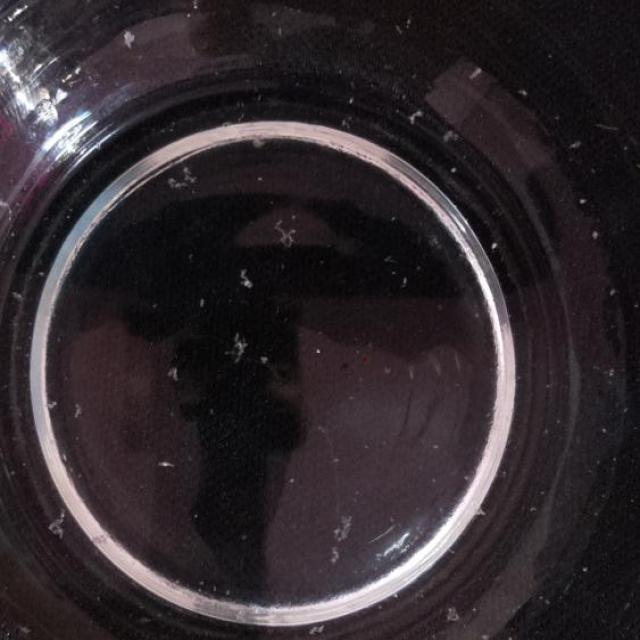fiber: (322, 506, 358, 564), (167, 156, 197, 192), (41, 512, 69, 550), (275, 213, 299, 255), (230, 330, 256, 364), (0, 184, 20, 225), (443, 596, 466, 627), (400, 104, 424, 128), (483, 235, 507, 257), (460, 60, 481, 84), (240, 262, 257, 291), (119, 28, 140, 46), (572, 188, 592, 205), (566, 136, 582, 154), (162, 358, 178, 374), (588, 223, 601, 242), (439, 128, 459, 140), (160, 456, 175, 471)
